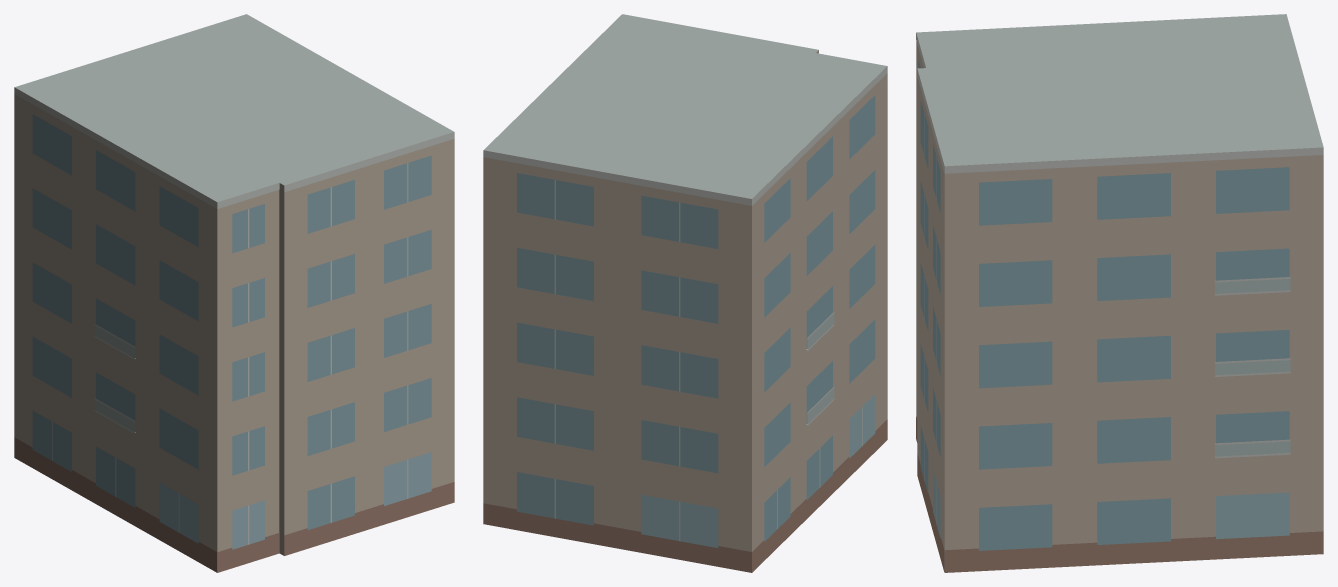
Rendered from survey-upis-32661912.glb.
3 renders of one model, left to right at view 1: azimuth 30°, elevation 25°; view 2: azimuth 150°, elevation 25°; view 3: azimuth 270°, elevation 25°, orthographic. The views are drawn at different scales.
Visible parts, largest first — view 1: survey-upis-32661912.tmp; view 2: survey-upis-32661912.tmp; view 3: survey-upis-32661912.tmp.
Part boxes in pixels (<box>): survey-upis-32661912.tmp: <box>14,14,454,572</box>; survey-upis-32661912.tmp: <box>483,14,887,572</box>; survey-upis-32661912.tmp: <box>916,14,1323,572</box>.
Bounding box in the file's own units: 10.69 × 13.3 × 12.09.
